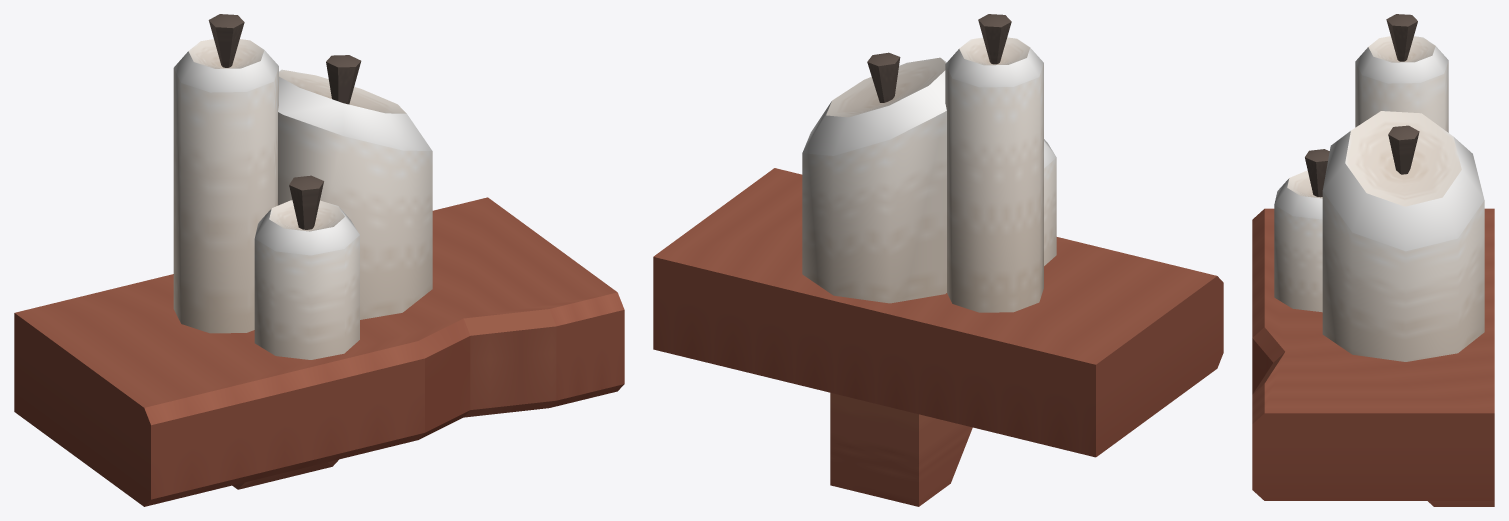
File: shelf_small_candles.glb
3 views of the same model, side by side, from view 1: azimuth 30°, elevation 25°; view 2: azimuth 150°, elevation 25°; view 3: azimuth 270°, elevation 25° (orthographic). The views are drawn at different scales.
Parts seen in each view (by area): view 1: shelf_small_candles; view 2: shelf_small_candles; view 3: shelf_small_candles.
Boxes of the visible parts, box(x1,y1,x2,y2) form: shelf_small_candles: box(14, 14, 624, 506); shelf_small_candles: box(653, 14, 1223, 506); shelf_small_candles: box(1252, 14, 1494, 506).
Bounding box in the file's own units: 1 × 0.9942 × 0.5.
1 material, 1 textured.
